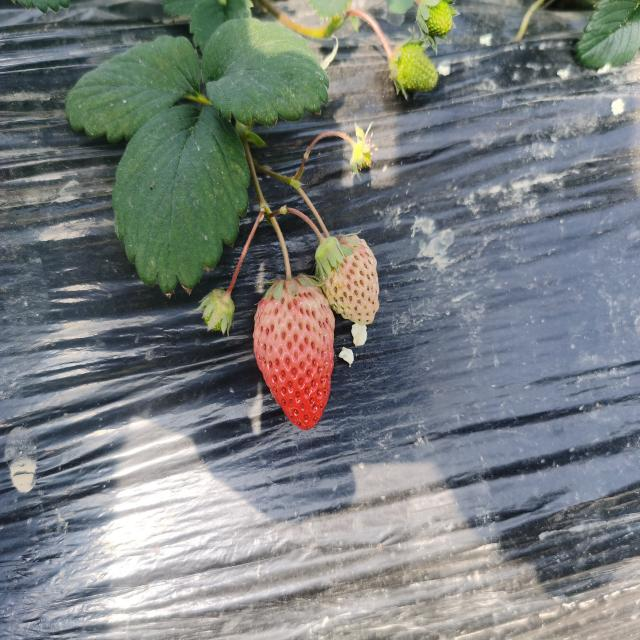stem: (281, 243, 292, 281)
strawberry: (254, 276, 335, 432)
